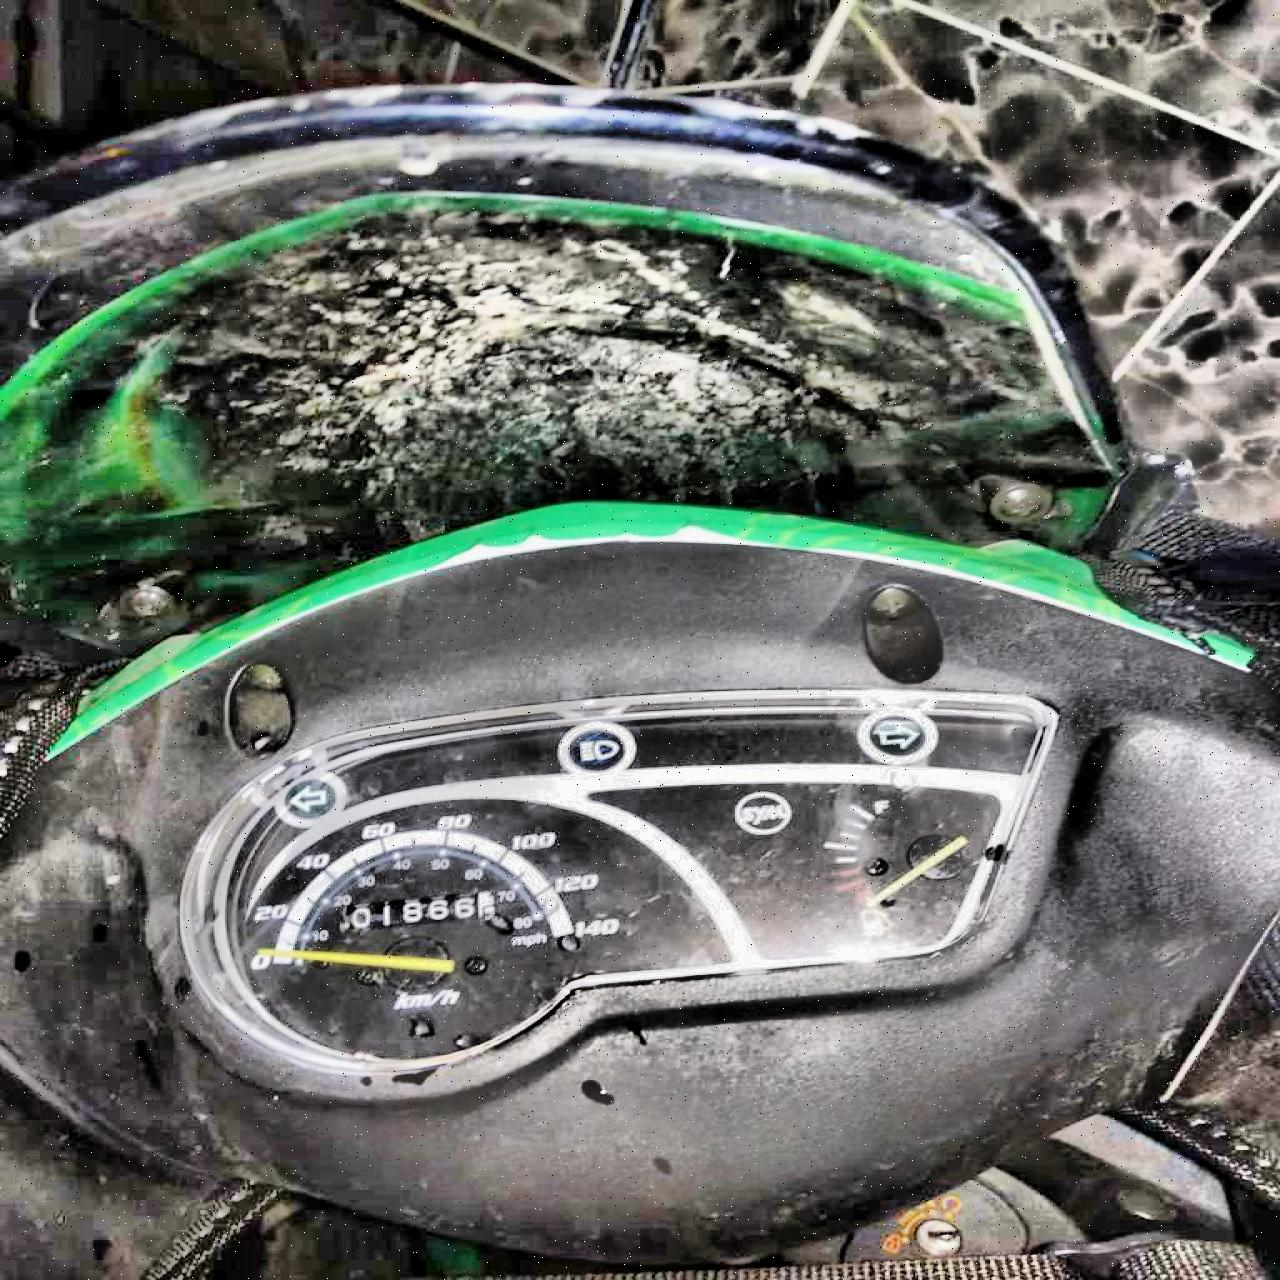0: (350, 906, 370, 928), (340, 893, 350, 905)
1: (375, 900, 395, 926)
2: (333, 896, 340, 906)
6: (427, 896, 448, 920), (454, 897, 471, 918)
8: (400, 900, 422, 924), (478, 903, 495, 921)
odometer: (333, 888, 499, 931)
